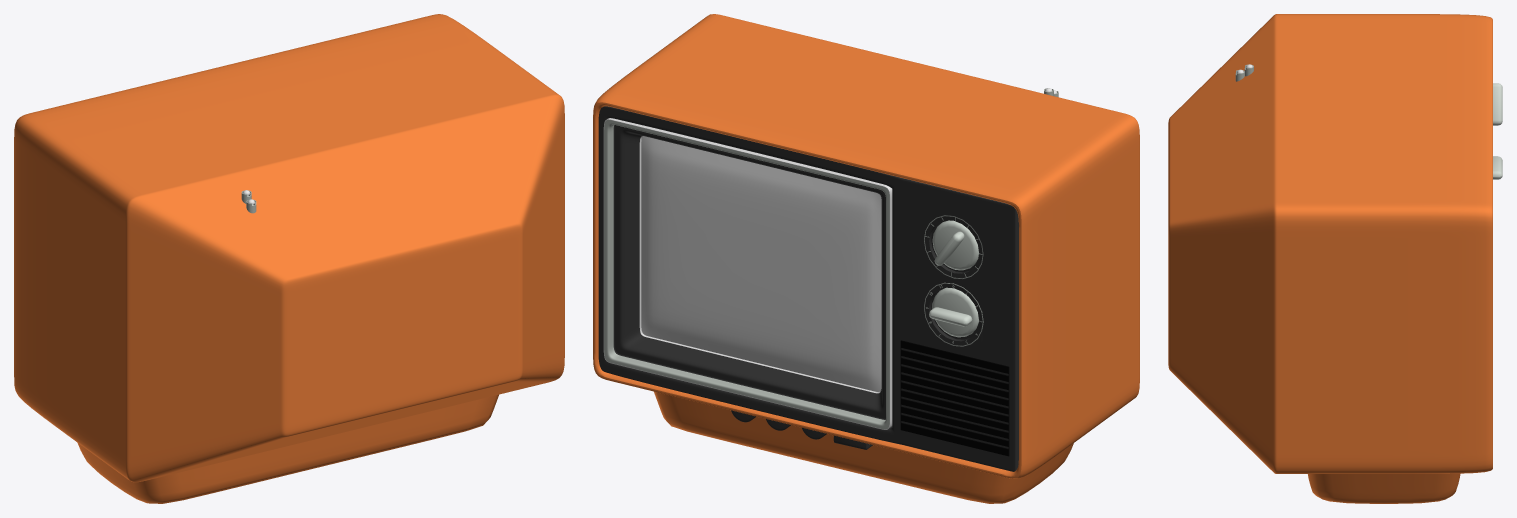
The picture shows the model from 3 angles, left to right: view 1: azimuth 30°, elevation 25°; view 2: azimuth 150°, elevation 25°; view 3: azimuth 270°, elevation 25°; orthographic projection. The views are drawn at different scales.
Visible parts, largest first — view 1: Cube.002, Cube.008; view 2: Cube.002, Cube.004, Cube.005, Cube.008, Cube.007, Cube.009, Cube.006, Cube.010; view 3: Cube.002, Cube.008, Cube.009.
Boxes of the visible parts, box(x1,y1,x2,y2) form: Cube.002: box(14, 14, 564, 482); Cube.008: box(77, 394, 498, 503); Cube.002: box(593, 14, 1139, 478); Cube.004: box(603, 118, 892, 429); Cube.005: box(598, 106, 1018, 471); Cube.008: box(654, 391, 1073, 503); Cube.007: box(900, 340, 1009, 456); Cube.009: box(932, 220, 978, 270); Cube.006: box(929, 287, 978, 337); Cube.010: box(731, 410, 872, 449); Cube.002: box(1168, 14, 1492, 473); Cube.008: box(1308, 473, 1460, 503); Cube.009: box(1493, 83, 1502, 125).
Bounding box in the file's own units: 435 × 322 × 307.
